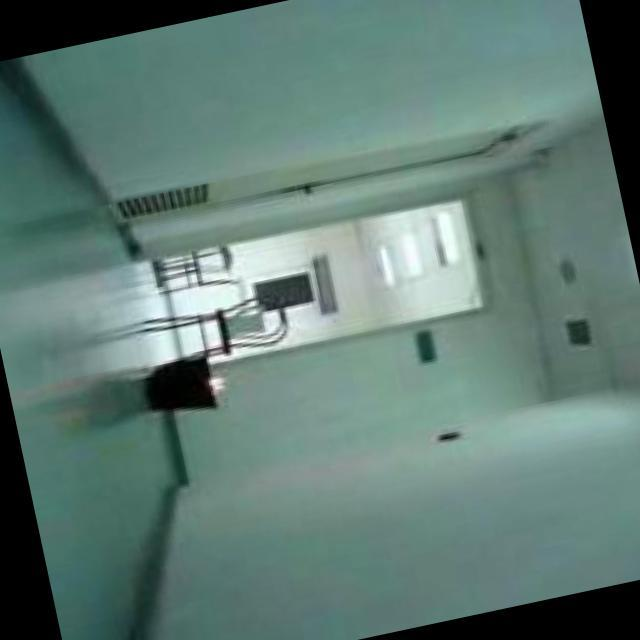Fire: (210, 370, 233, 399)
